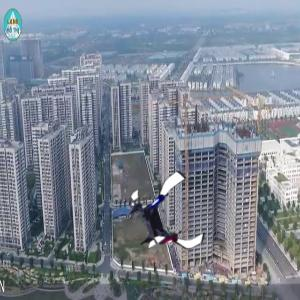drone: (126, 176, 212, 262)
